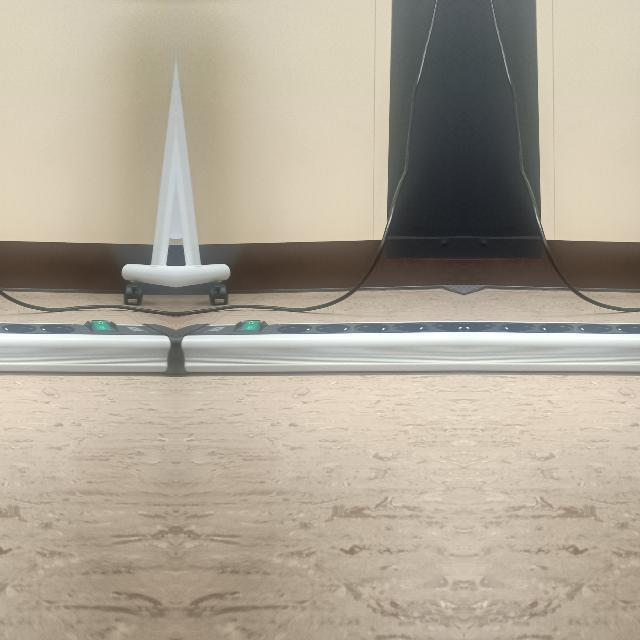obstacle: (176, 319, 464, 371), (463, 319, 640, 371), (0, 319, 174, 371)
